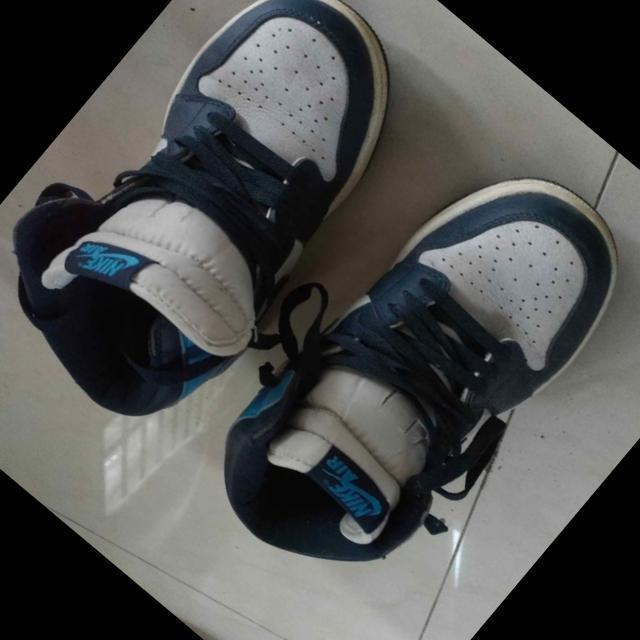nike fake jordan 1: (170, 101, 640, 618), (0, 0, 469, 466)
